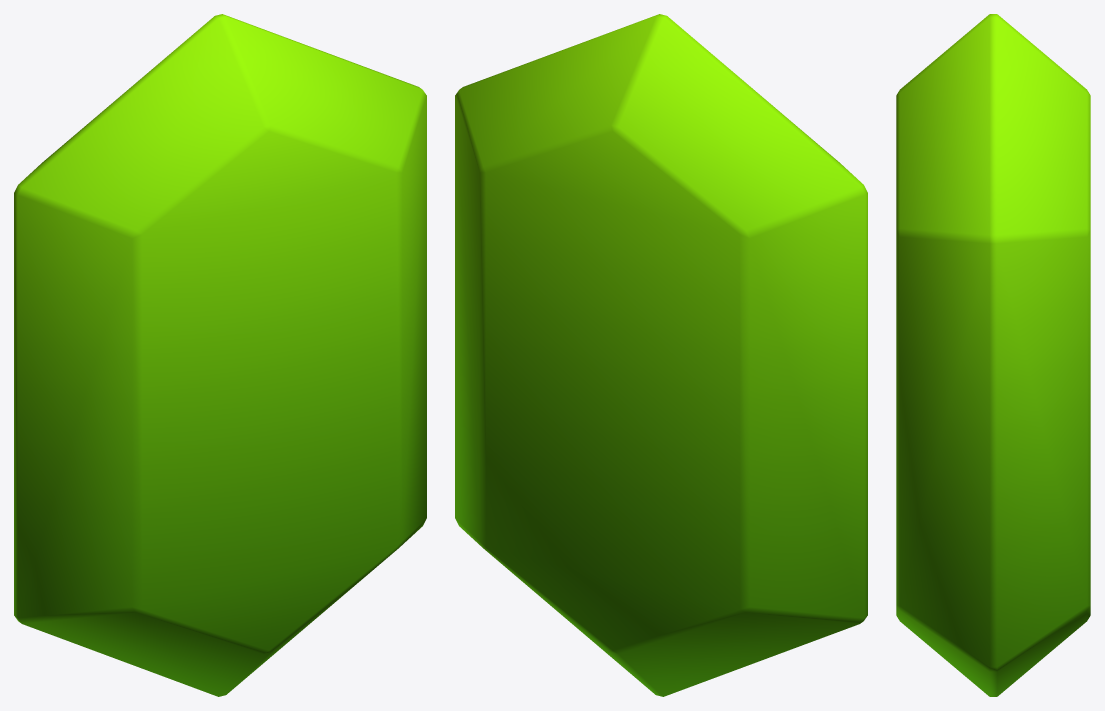
File: Collectable_Gem_01.fbx
The picture shows the model from 3 angles, left to right: view 1: azimuth 30°, elevation 25°; view 2: azimuth 150°, elevation 25°; view 3: azimuth 270°, elevation 25°; orthographic projection.
Parts seen in each view (by area): view 1: Collectable_Gem_01; view 2: Collectable_Gem_01; view 3: Collectable_Gem_01.
Part boxes in pixels (x1,y1,x2,y2): Collectable_Gem_01: [14, 14, 426, 696]; Collectable_Gem_01: [455, 14, 867, 696]; Collectable_Gem_01: [896, 14, 1090, 696].
Size of the model in its own units: 49.82 by 78.95 by 20.5.
1 material, 1 textured.
